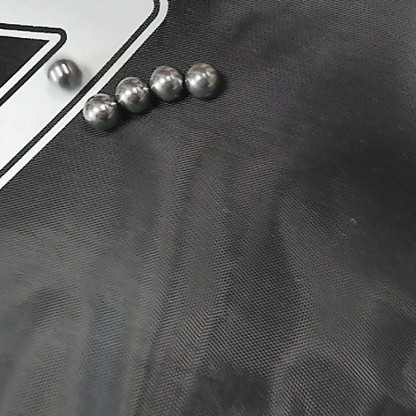ironball: (83, 94, 116, 129), (149, 65, 182, 100), (184, 63, 217, 97), (117, 77, 149, 111), (47, 57, 77, 86)
